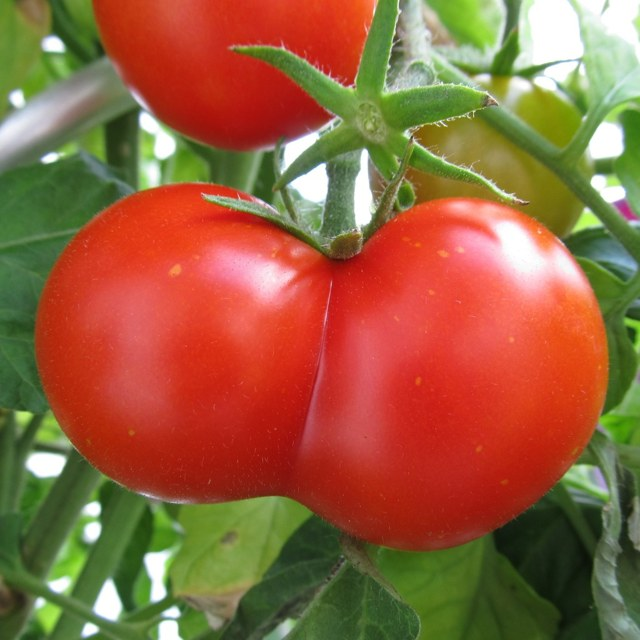tomato: (38, 147, 609, 550), (84, 0, 379, 155)
